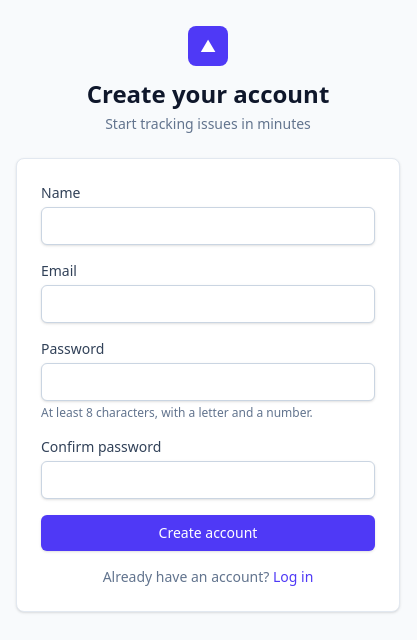
Test: authentication flows › validates registration (weak password, mismatch) before submitting
Type "Ada" into the field labelled "Name" at [208, 226], box top-left (41, 207), bottom-right (375, 245)
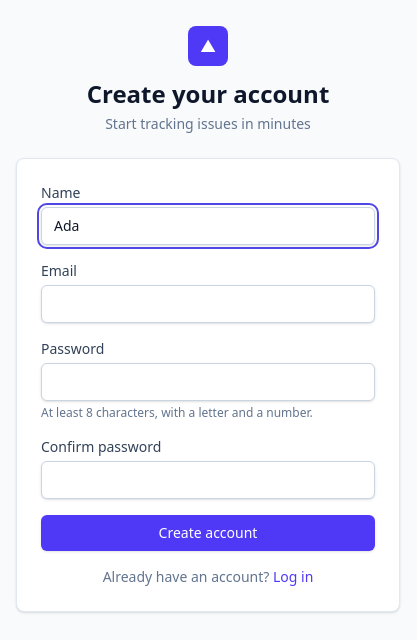
Type "ada@example.com" into the field labelled "Email" at [208, 304], box top-left (41, 285), bottom-right (375, 323)
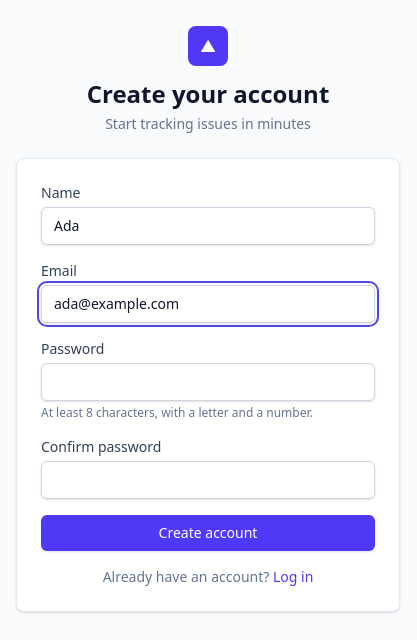
Type "short" into the password field labelled "Password" at [208, 382], box top-left (41, 363), bottom-right (375, 401)
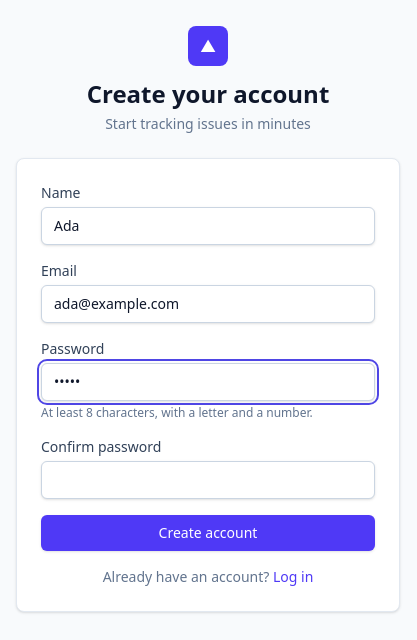
Type "other" into the password field labelled "Confirm password" at [208, 480], box top-left (41, 461), bottom-right (375, 499)
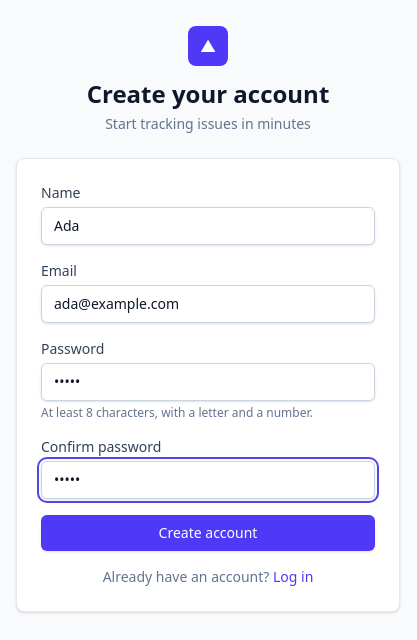
Click the button "Create account" at [208, 533], box top-left (41, 515), bottom-right (375, 551)
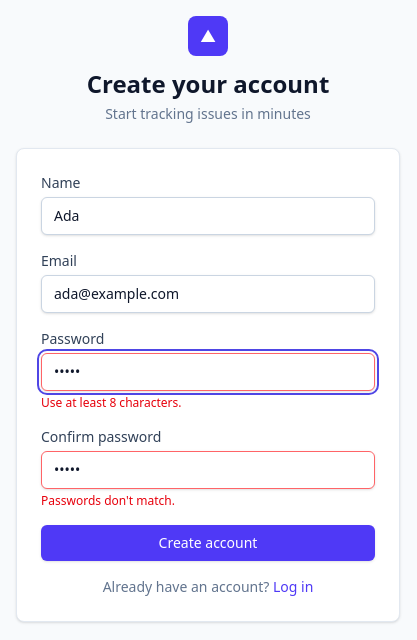
expect the text "Use at least 8 characters." is shown: met, box top-left (41, 394), bottom-right (182, 411)
expect the text "Passwords don't match." is shown: met, box top-left (41, 492), bottom-right (175, 509)
